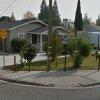Tree: (35, 1, 88, 35)
